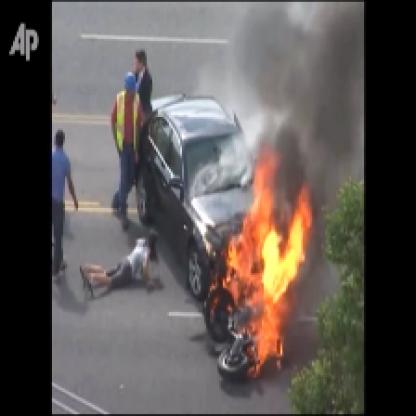Fire: (204, 141, 312, 381)
Smoke: (244, 4, 360, 165)
